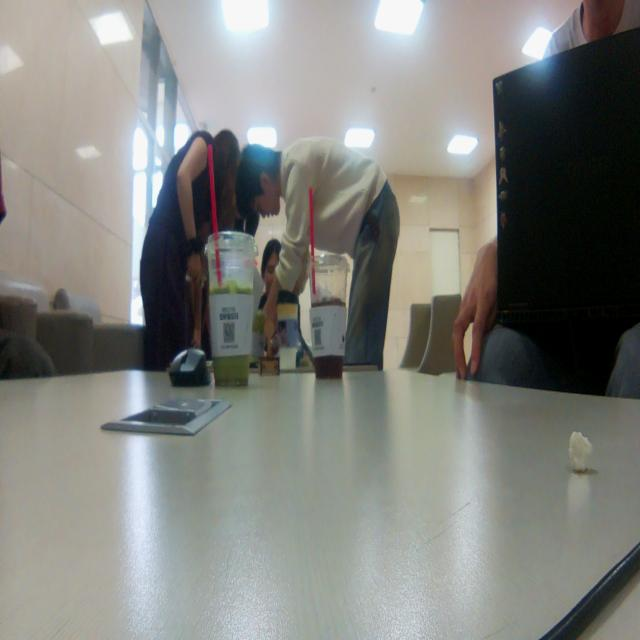target: (259, 331, 280, 377)
